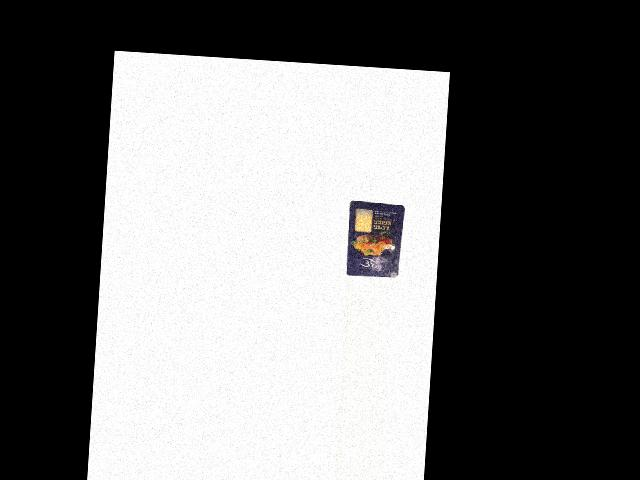cheese: (345, 200, 406, 279)
